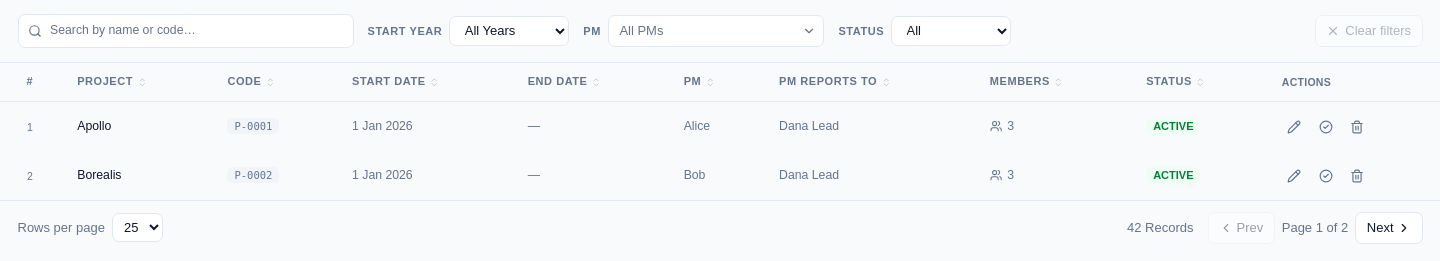
Test: ProjectsTab — server-side pagination › fills the Year select and PM combobox from filter-options
The image size is (1440, 261).
# PM is a searchable combobox — its options render once it's opened.
Step 1. Click the dropdown labelled "PM" → point(716, 31), box [608,15,824,47]
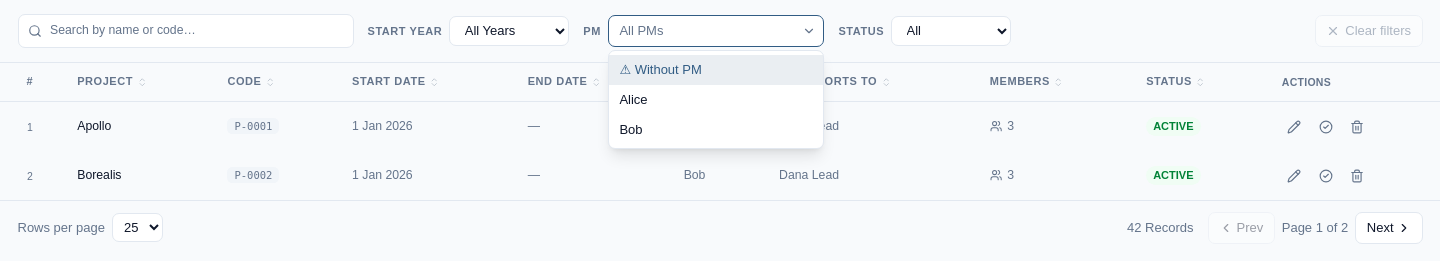
Check: the option "Alice" is shown, box [619,92,648,107]
Check: the option "Bob" is shown, box [619,122,642,137]
Check: the option "⚠ Without PM" is shown, box [609,55,823,85]
